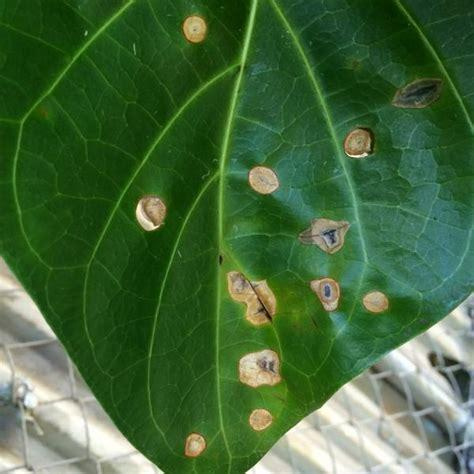black-spot: (292, 209, 364, 326)
